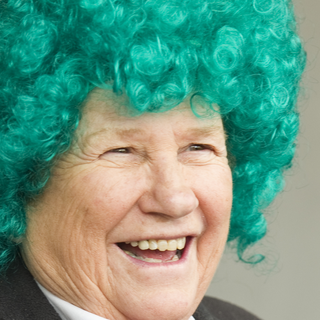eye: (96, 141, 144, 164), (174, 138, 219, 161)
